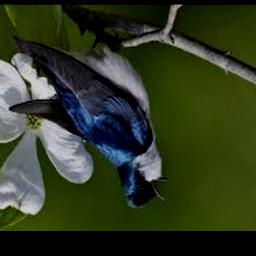Swallow: (9, 32, 169, 209)
